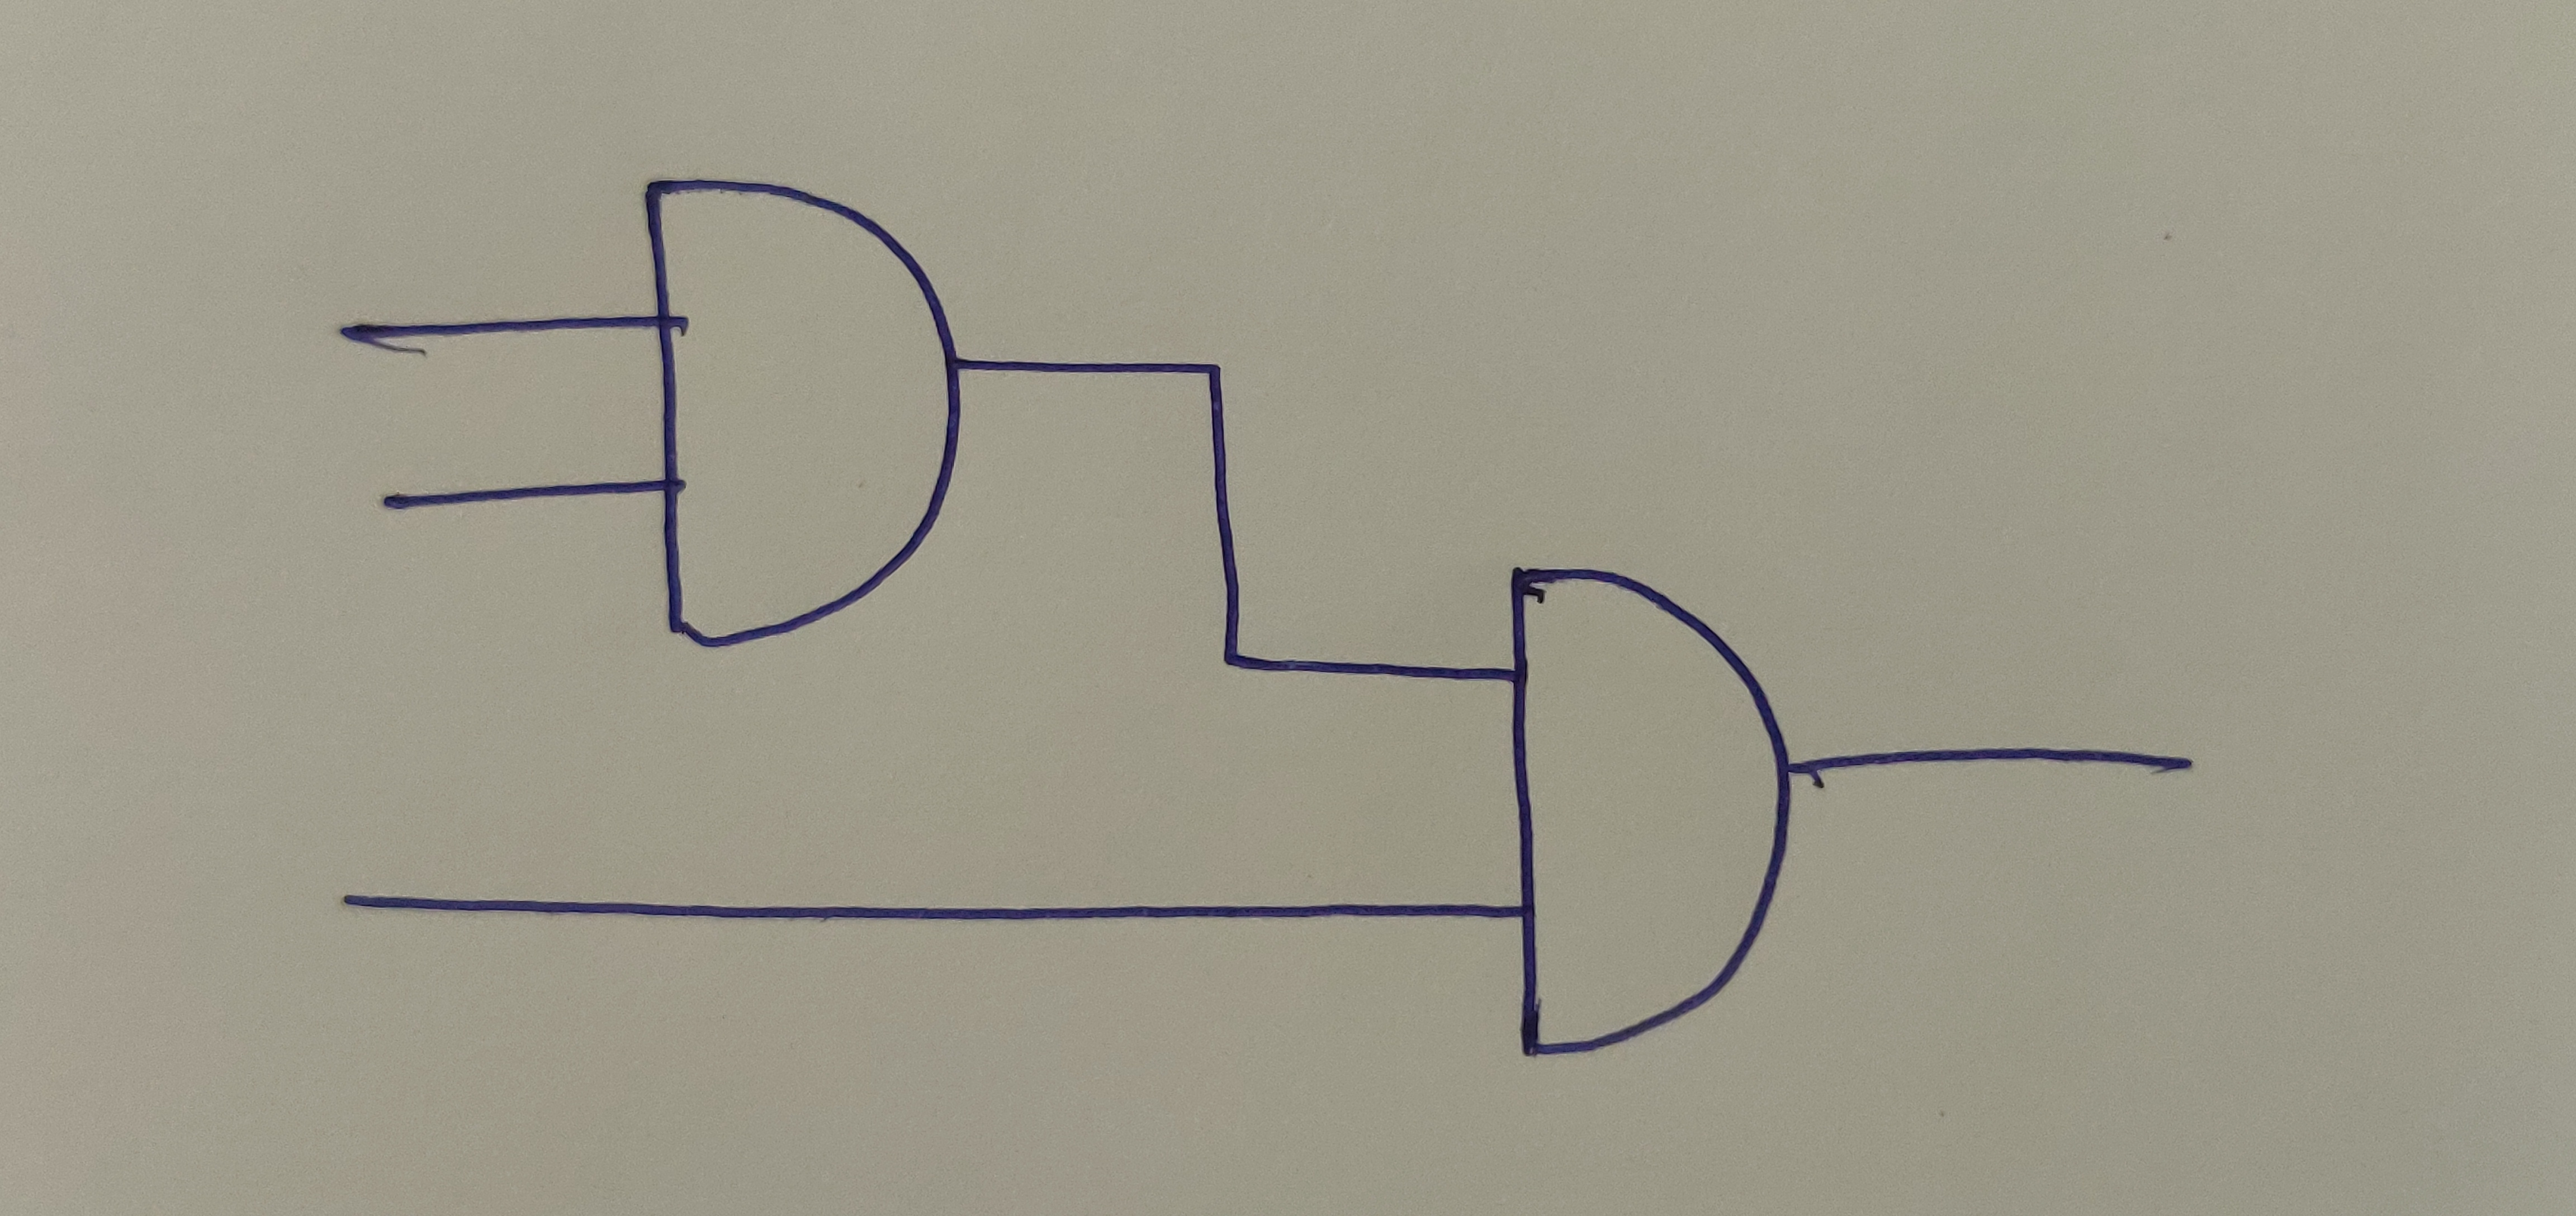and: (642, 177, 966, 644), (1503, 565, 1792, 1057)
